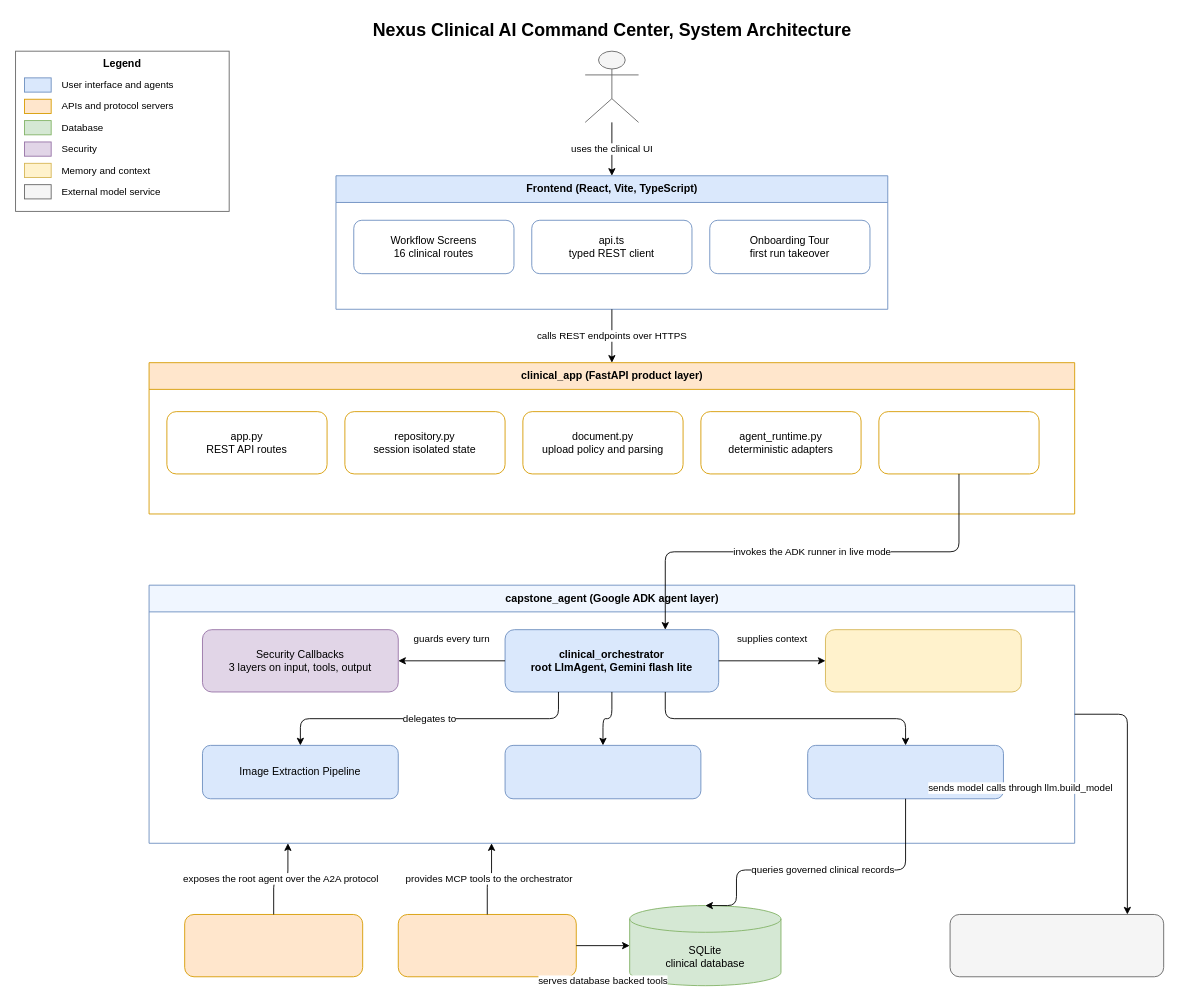
This 1179x1002 diagram has some shape labels left out. Each missing label, with the centre of its shape:
a2a_server.py Agent2Agent card endpoint: pixel 273 945
Clinician: pixel 611 86
Database Intelligence Pipeline: pixel 905 771
Gemini 3.1 on Vertex AI flash lite, pro, pro customtools: pixel 1056 945
live_bridge.py lazy ADK execution bridge: pixel 958 442
mcp_server/server.py MCP clinical tools: pixel 486 945
Memory and Context 4 layer memory, token budgeting: pixel 923 660
Patient QA Pipeline: pixel 602 771
